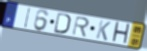6: (33, 8, 50, 33)
D: (54, 12, 72, 35)
H: (111, 21, 132, 46)
I: (23, 7, 32, 29)
K: (95, 19, 112, 42)
R: (71, 16, 91, 38)
